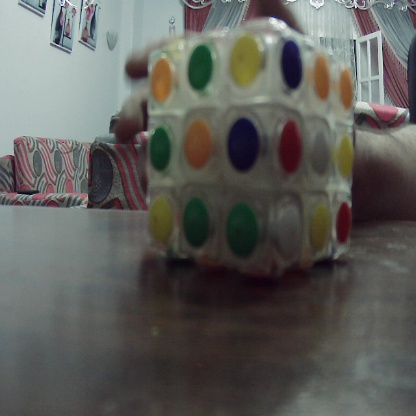Rubix Cube: (148, 30, 353, 268)
